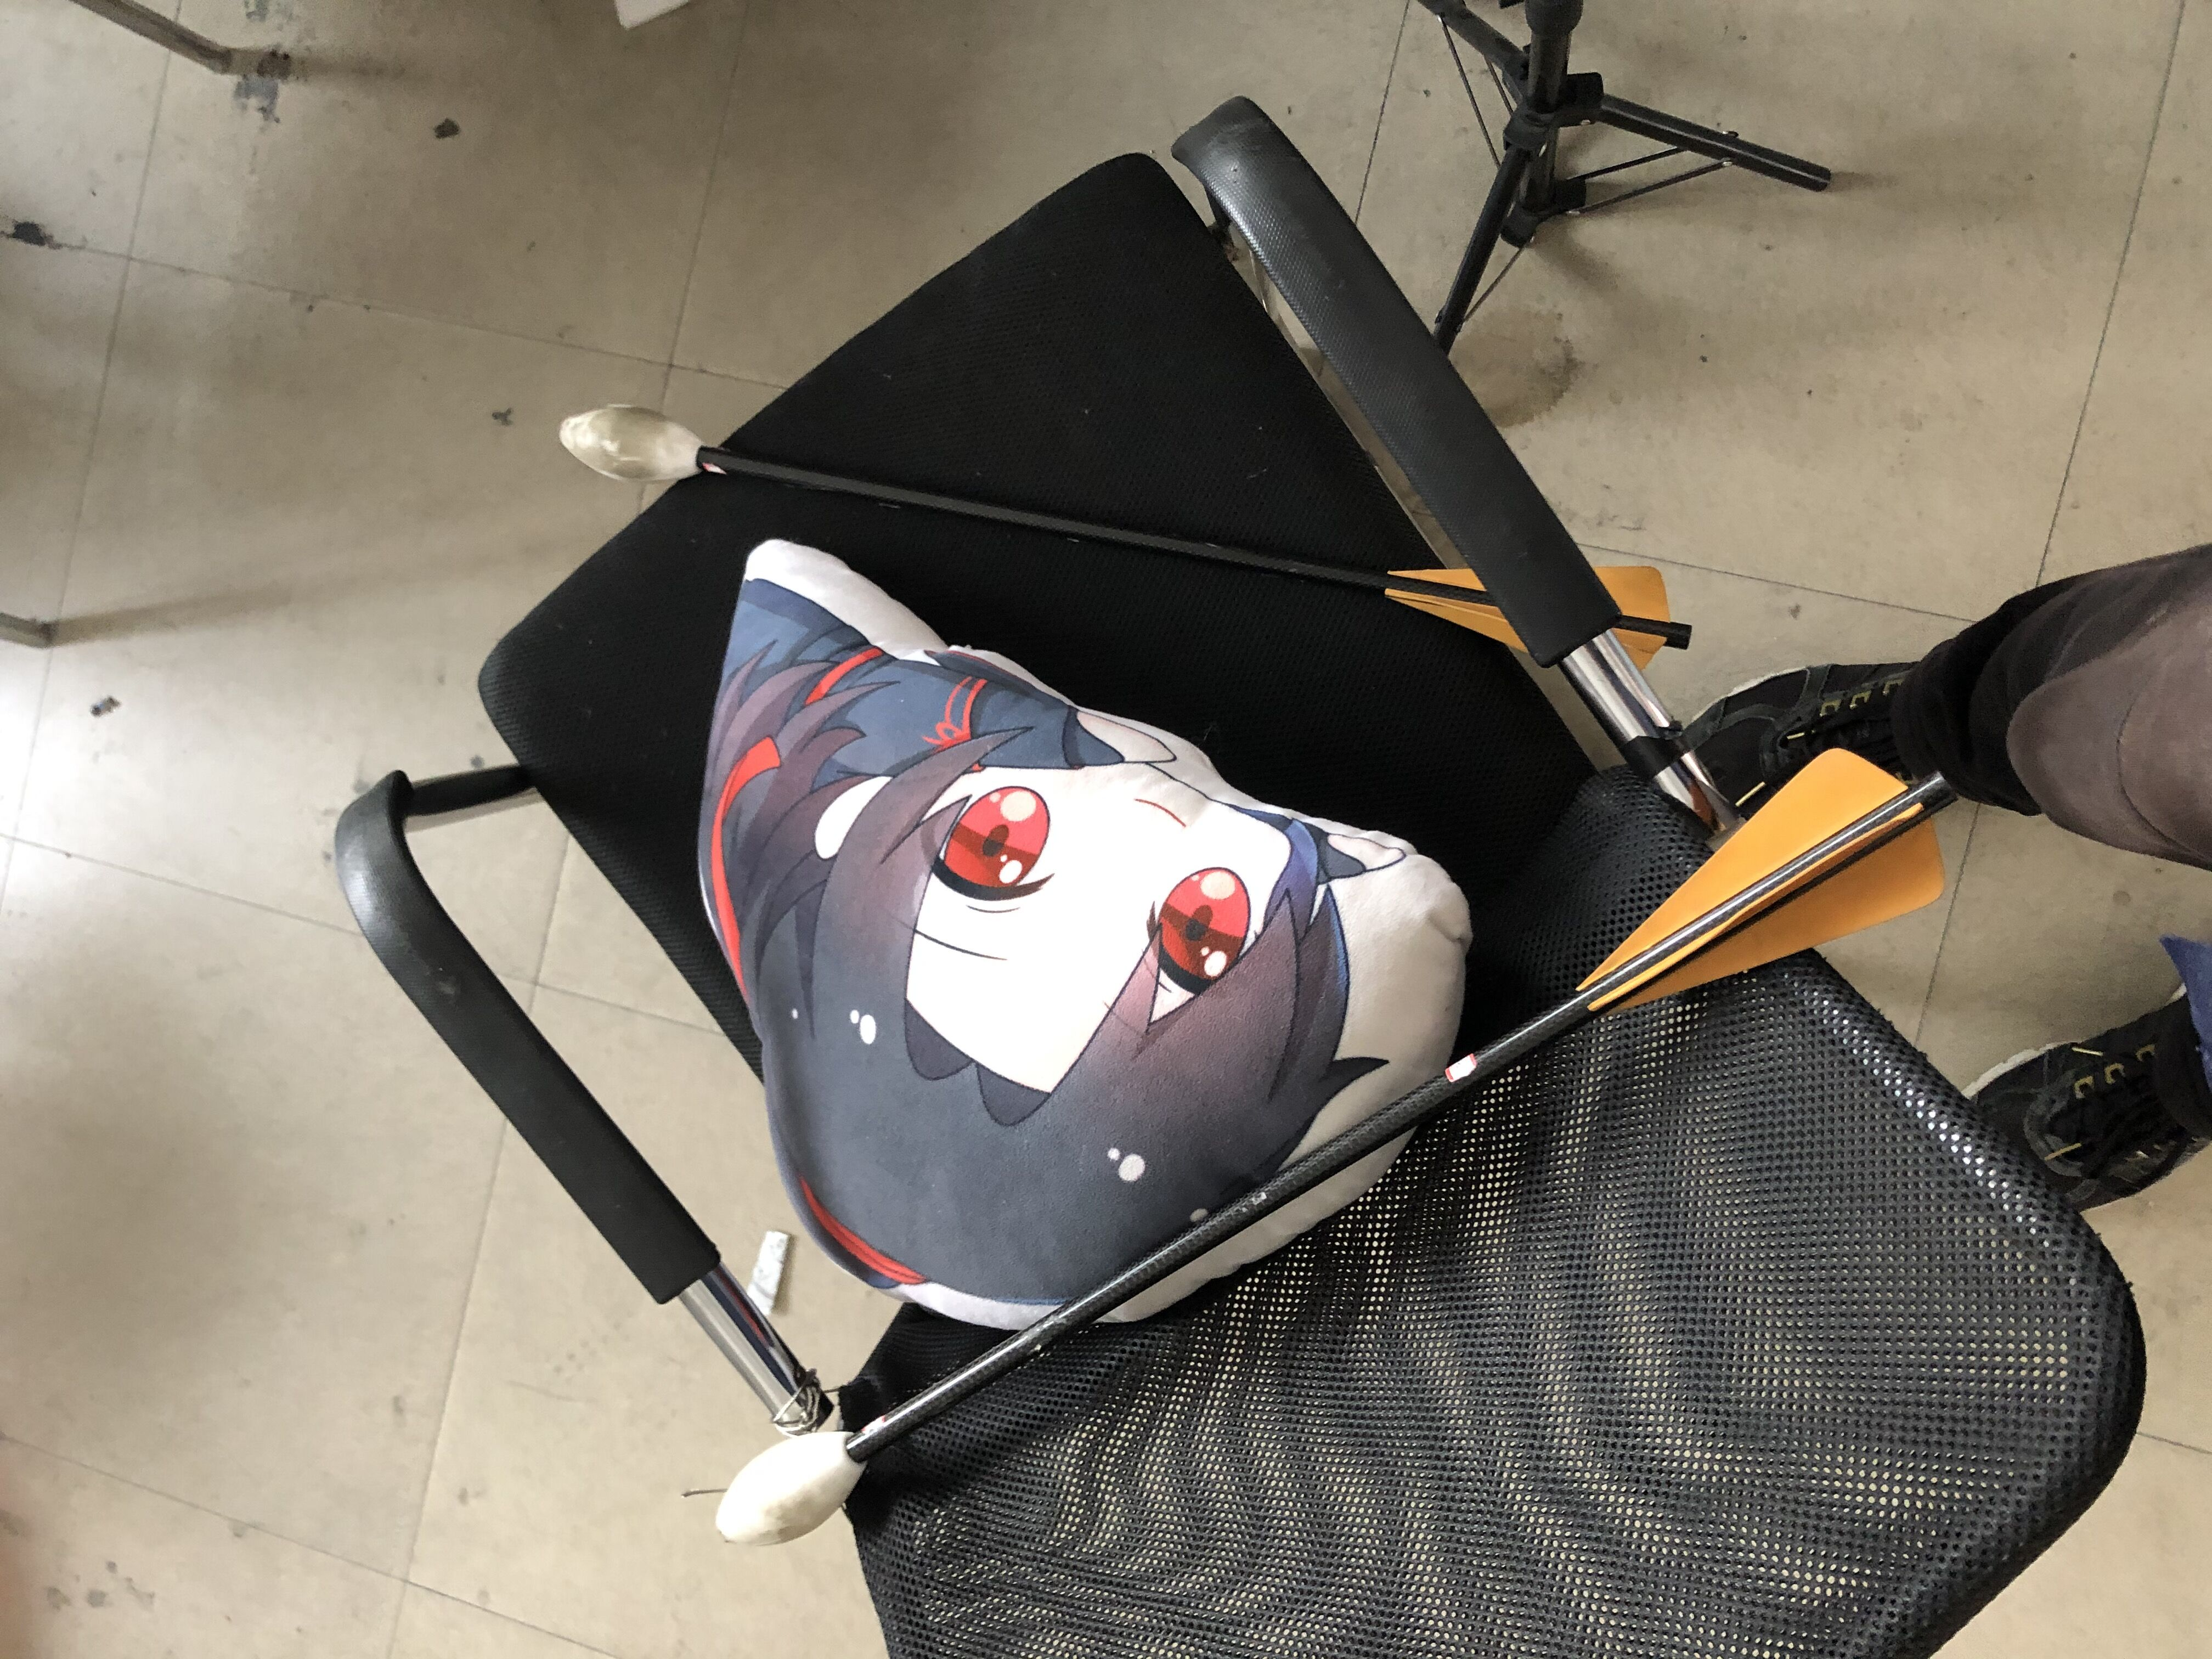arrow: (718, 746, 1959, 1542), (561, 406, 1691, 678)
arrowFront: (719, 1427, 869, 1546), (559, 404, 705, 481)
